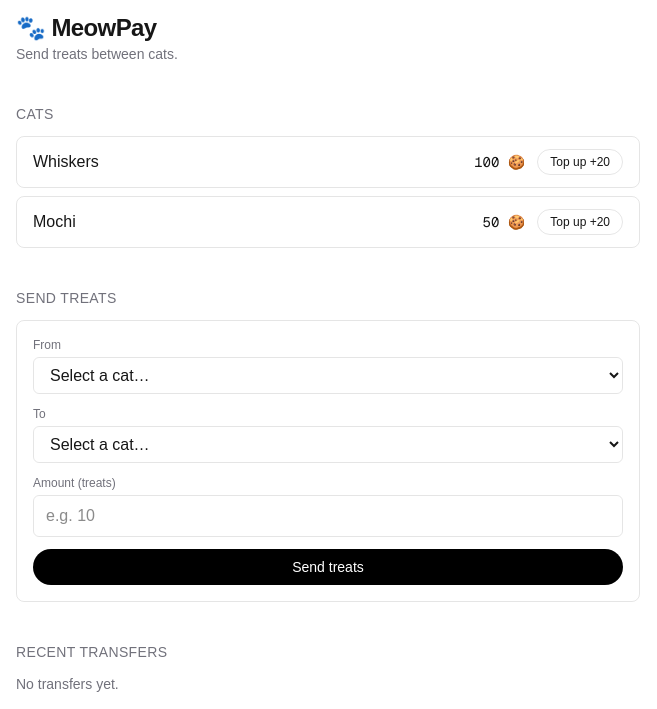
Test: Home › strips non-digit characters as they're typed into the amount field
Expected: the list is shown, left=16, top=136, right=640, bottom=248
Step 1. Type "ab12cd" into the field labelled "Amount (treats)" → [328, 516], box left=33, top=495, right=623, bottom=537
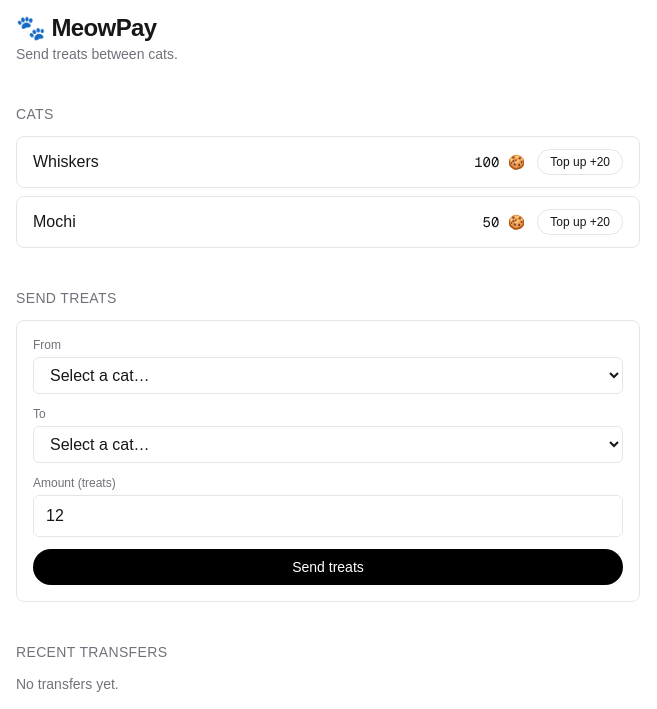
Now the field labelled "Amount (treats)" holds "12", box left=33, top=495, right=623, bottom=537
